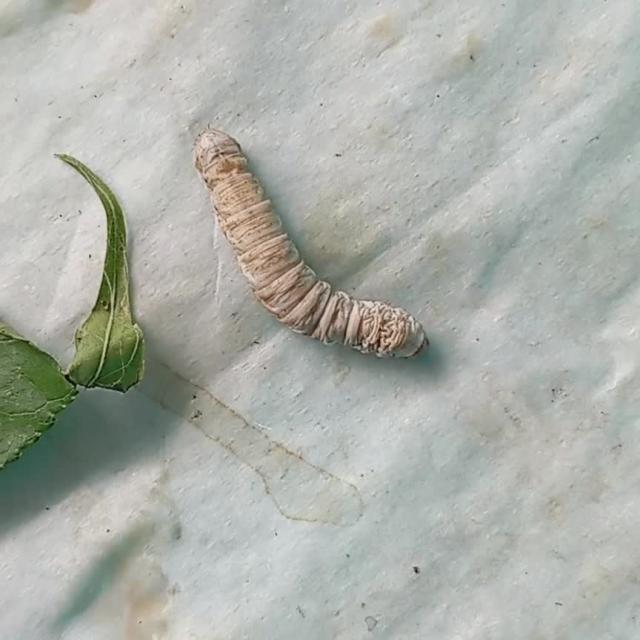Grasserie: (148, 94, 458, 376)
